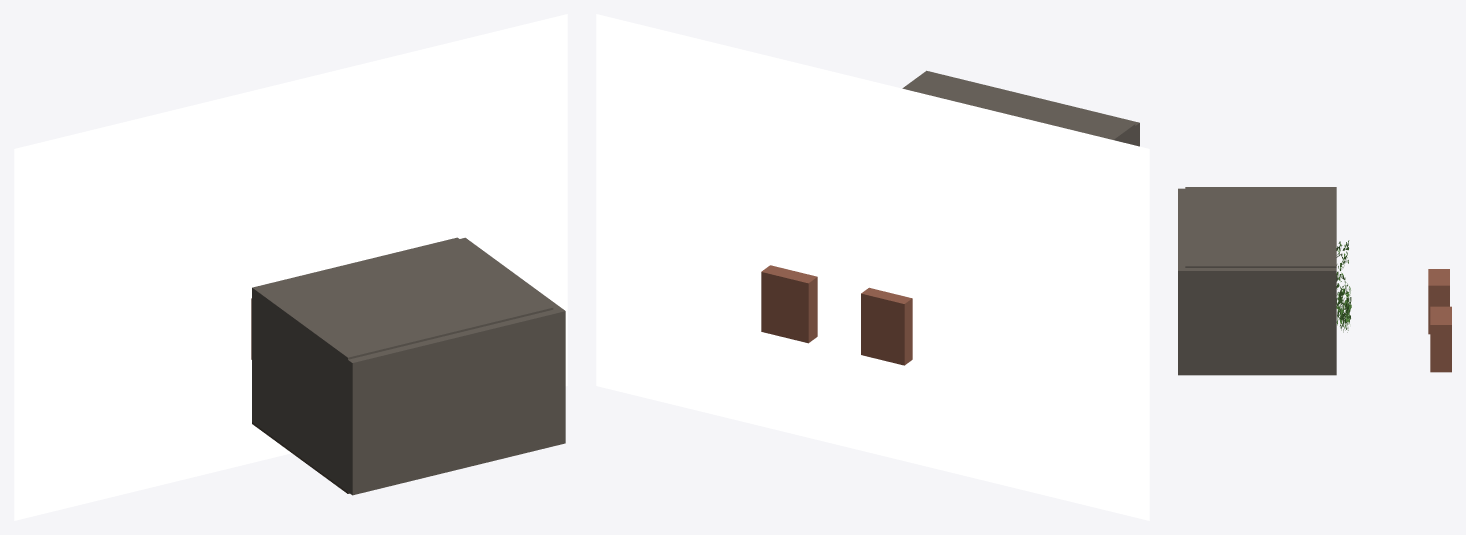
Rendered from abandoned_window.glb.
3 views of the same model, side by side, from view 1: azimuth 30°, elevation 25°; view 2: azimuth 150°, elevation 25°; view 3: azimuth 270°, elevation 25° (orthographic). The views are drawn at different scales.
Parts seen in each view (by area): view 1: SkyPlane, Wall_Back, Ceiling, Wall_LeftReturn; view 2: SkyPlane, Ceiling, Building_2, Building_1, Wall_Back; view 3: Wall_RightReturn, Ceiling, Wall_Back, Building_2, Building_1.
Boxes of the visible parts, x1,y1,x2,y2 form: SkyPlane: [14, 14, 567, 520]; Wall_Back: [348, 308, 565, 495]; Ceiling: [252, 237, 553, 359]; Wall_LeftReturn: [252, 290, 347, 491]; SkyPlane: [596, 14, 1149, 520]; Ceiling: [908, 74, 1135, 140]; Building_2: [761, 265, 817, 343]; Building_1: [861, 287, 912, 365]; Wall_Back: [922, 70, 1139, 146]; Wall_RightReturn: [1185, 268, 1336, 375]; Ceiling: [1185, 187, 1336, 267]; Wall_Back: [1178, 188, 1185, 375]; Building_2: [1430, 306, 1451, 372]; Building_1: [1428, 269, 1449, 334].
Bounding box in the file's own units: 14 × 9 × 7.6.
Materials: 13 (1 with a texture image).
